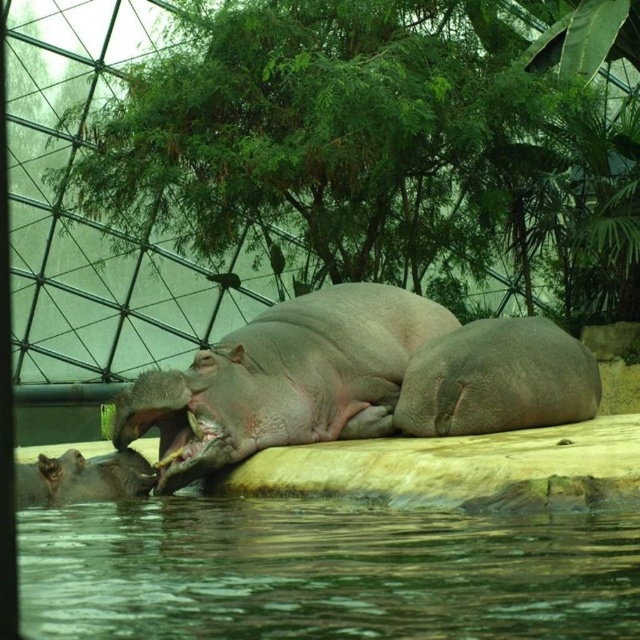Hippopotamus: (110, 281, 464, 497), (392, 315, 602, 437), (14, 448, 155, 512)
